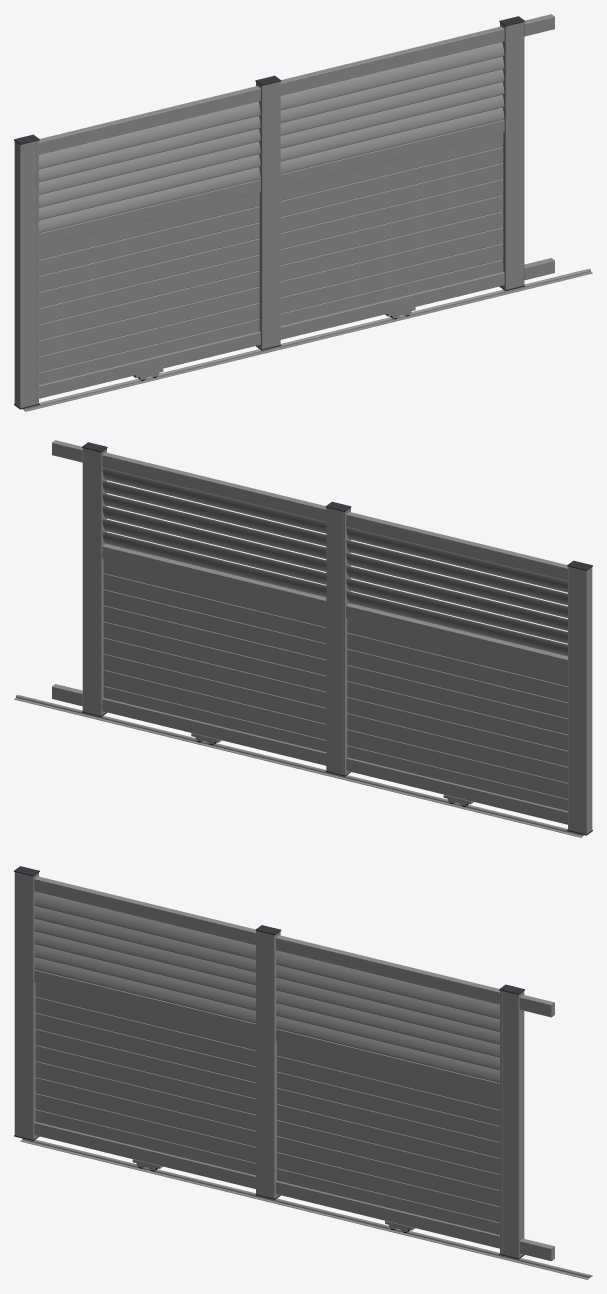
The picture shows the model from 3 angles, top to bottom: view 1: azimuth 30°, elevation 25°; view 2: azimuth 150°, elevation 25°; view 3: azimuth 330°, elevation 25°; orthographic projection.
Visible parts, largest first — view 1: Shape095, Shape107412804, Shape107412803, Shape107412805, Shape107412806, Shape107412807, Shape107412802, Shape107412808, Shape096, Circle133, Shape107412643, Shape310 (+10 smaller); view 2: Shape095, Shape107412807, Shape107412802, Shape107412804, Shape107412805, Shape107412803, Shape107412808, Shape107412806, Shape009, Shape096, Shape107412643, Shape310 (+10 smaller); view 3: Shape095, Shape107412807, Shape107412802, Shape107412805, Shape107412806, Shape107412808, Shape107412803, Shape107412804, Shape096, Circle133, Shape107413021, Shape310 (+10 smaller).
Boxes of the visible parts, x1,y1,x2,y2 form: Shape095: (39,14,554,154); Shape107412804: (39,179,503,308); Shape107412803: (39,163,503,291); Shape107412805: (39,195,503,324); Shape107412806: (39,211,503,340); Shape107412807: (39,227,503,356); Shape107412802: (39,147,503,275); Shape107412808: (39,243,503,372); Shape096: (39,258,554,398); Circle133: (39,42,504,169); Shape107412643: (14,140,38,408); Shape310: (39,133,503,259); Shape095: (52,440,567,580); Shape107412807: (103,653,567,782); Shape107412802: (103,573,567,702); Shape107412804: (103,605,567,734); Shape107412805: (103,621,567,750); Shape107412803: (103,589,567,718); Shape107412808: (103,670,567,798); Shape107412806: (103,637,567,766); Shape009: (102,544,567,672); Shape096: (52,684,567,824); Shape107412643: (568,566,592,834); Shape310: (103,559,567,686); Shape095: (34,876,554,1017); Shape107412807: (35,1077,499,1206); Shape107412802: (35,996,499,1125); Shape107412805: (35,1045,499,1174); Shape107412806: (35,1061,499,1190); Shape107412808: (35,1093,499,1222); Shape107412803: (35,1013,499,1141); Shape107412804: (35,1029,499,1157); Shape096: (34,1122,554,1261); Circle133: (34,892,499,1019); Shape107413021: (500,990,524,1257); Shape310: (35,983,499,1109).
Bounding box in the file's own units: 3638 × 1636 × 70.
6 materials, 2 textured.
